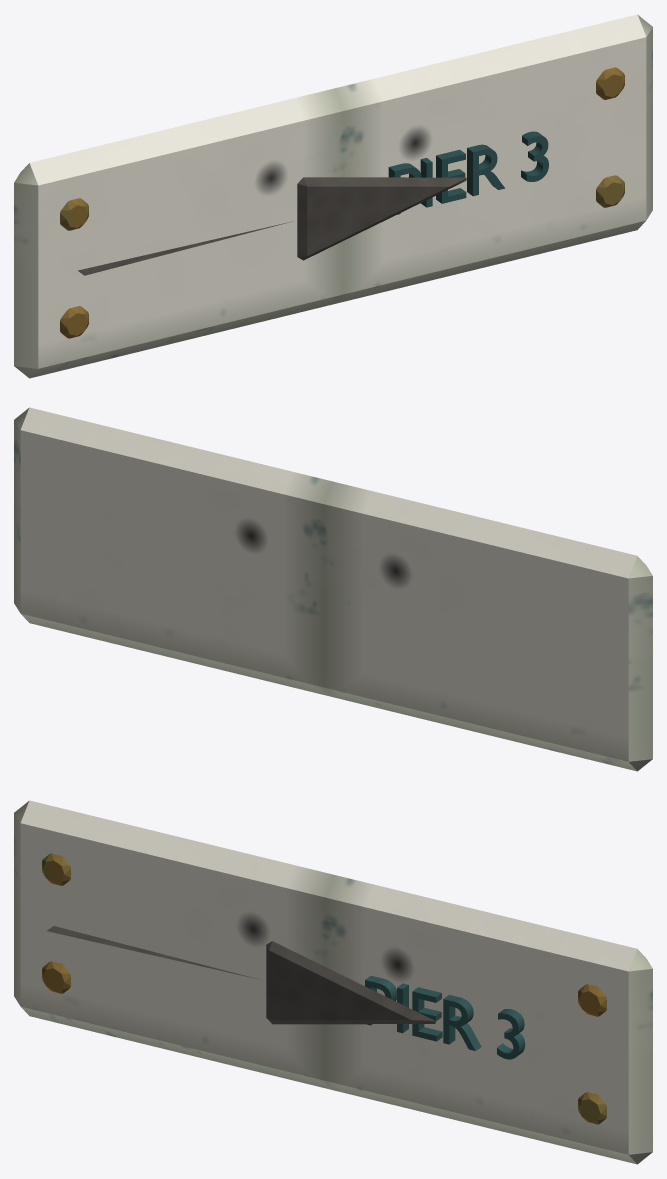
Rendered from WK_SIGN_DIRECTIONAL_A_01.glb.
3 views of the same model, one above another, from view 1: azimuth 30°, elevation 25°; view 2: azimuth 150°, elevation 25°; view 3: azimuth 330°, elevation 25° (orthographic).
Visible parts, largest first — view 1: WK_SIGN_DIRECTIONAL_A_01; view 2: WK_SIGN_DIRECTIONAL_A_01; view 3: WK_SIGN_DIRECTIONAL_A_01.
Part boxes in pixels (box(x1,y1,x2,y2)): WK_SIGN_DIRECTIONAL_A_01: box(14, 14, 652, 378); WK_SIGN_DIRECTIONAL_A_01: box(14, 407, 652, 771); WK_SIGN_DIRECTIONAL_A_01: box(14, 800, 652, 1164).
Size of the model in its own units: 0.62 by 0.2 by 0.047.
Materials: 4 (4 with a texture image).
